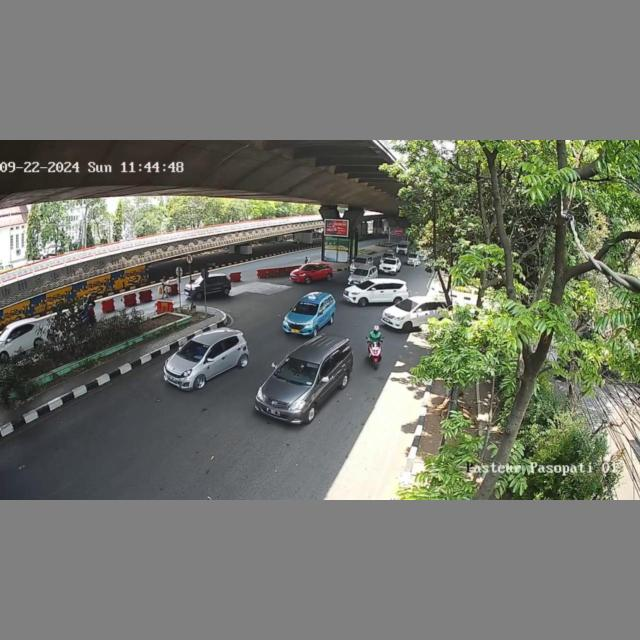windshield: (274, 356, 321, 384), (177, 341, 209, 361), (289, 301, 318, 316), (397, 299, 418, 310), (353, 268, 369, 275)
